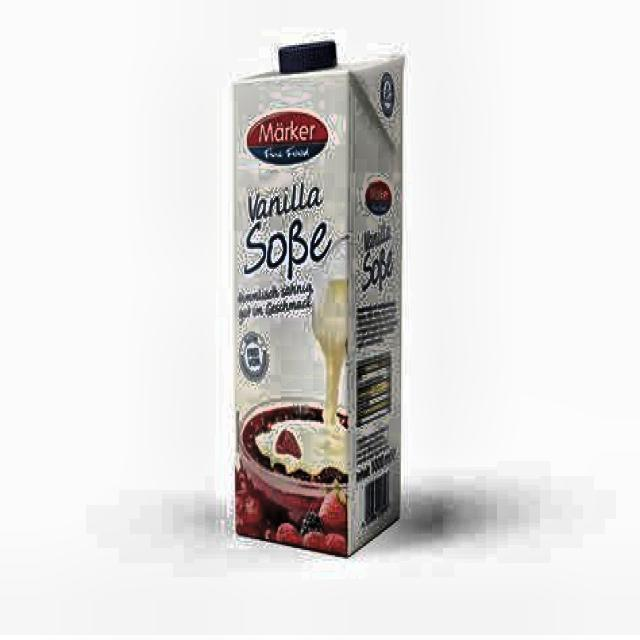cardboard: (231, 43, 405, 557)
